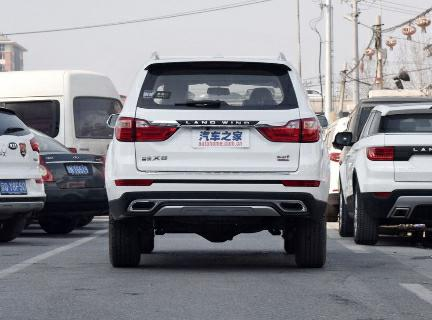陆风-X8: (102, 56, 334, 276)
